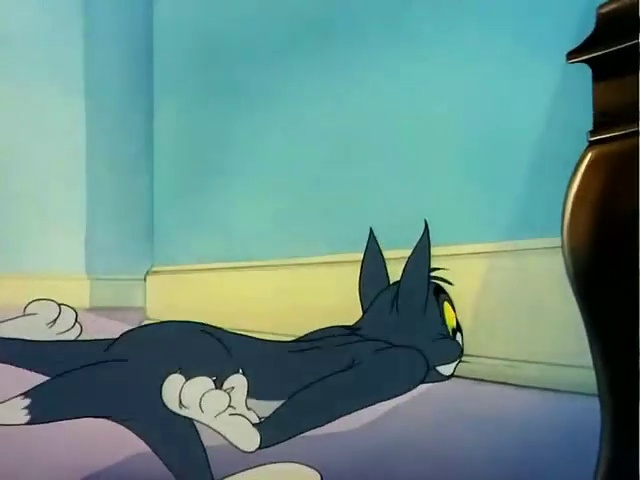tom: (2, 219, 489, 480)
